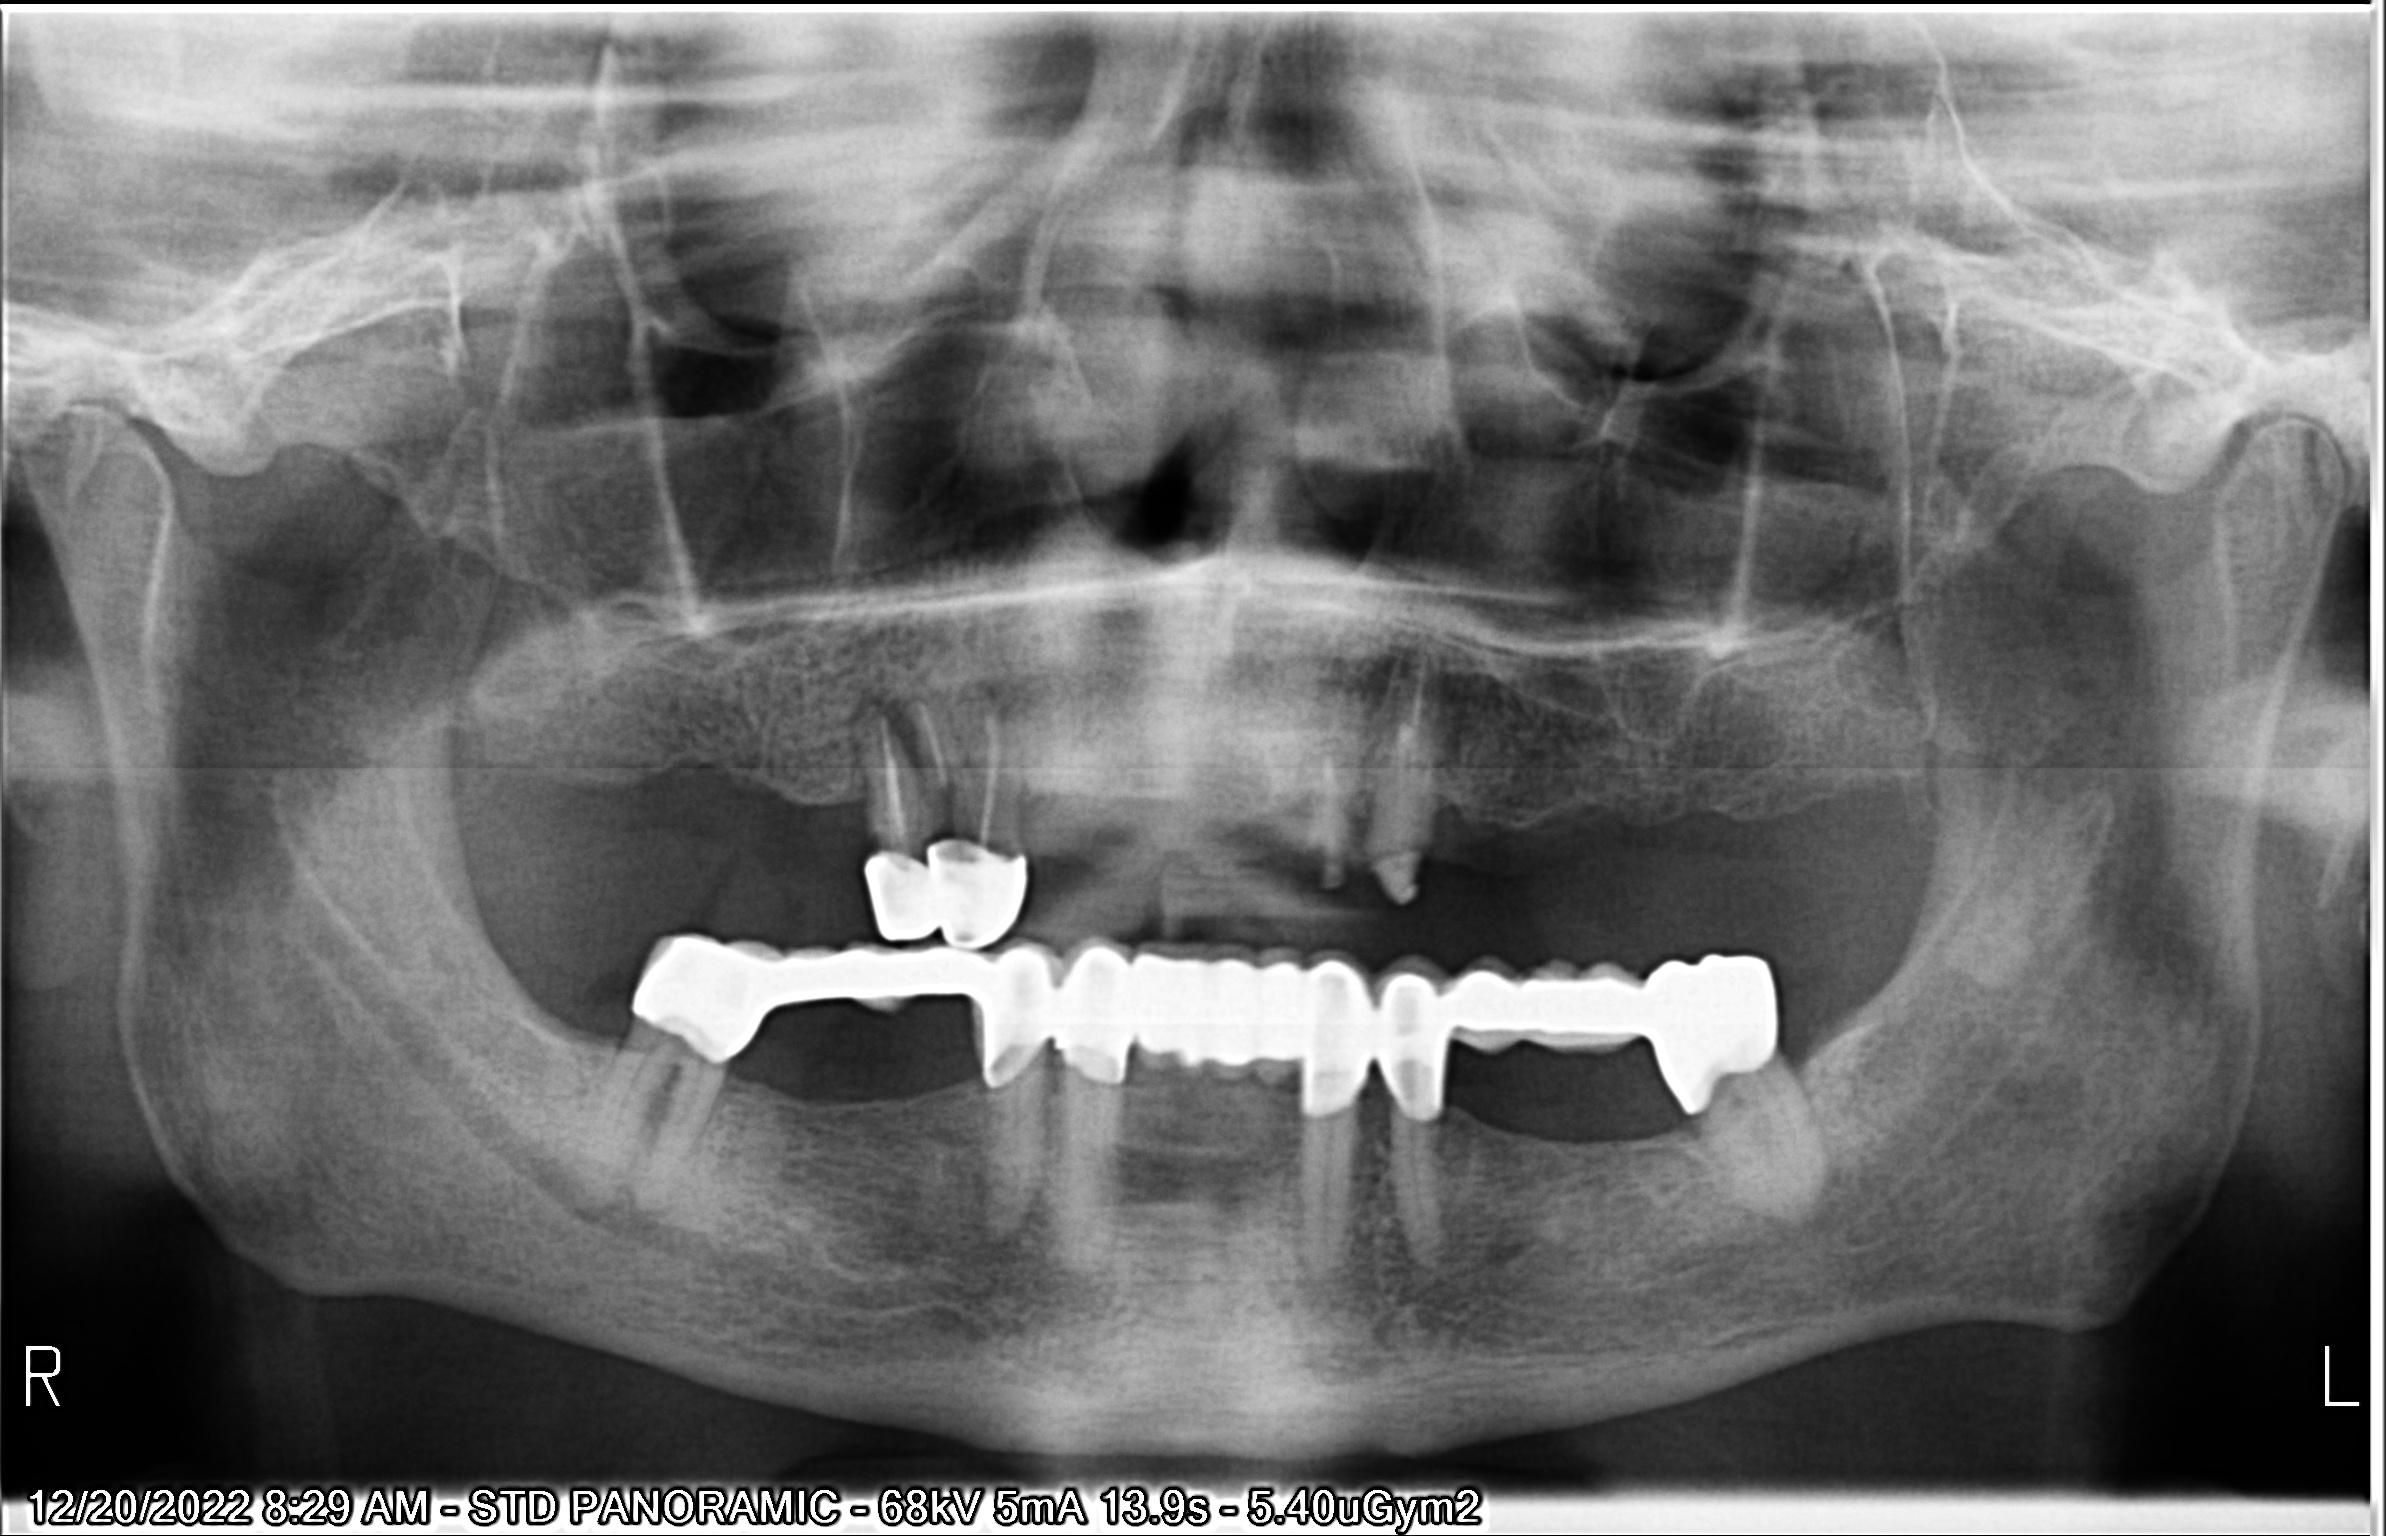API: (830, 668, 934, 771)
CAR: (850, 828, 899, 882)
END: (1360, 638, 1457, 852), (953, 698, 1009, 844), (859, 705, 913, 838)
OBT: (1360, 849, 1430, 922)
PRR: (600, 936, 1821, 1125)
ROT: (1273, 717, 1376, 892), (911, 675, 984, 797)
